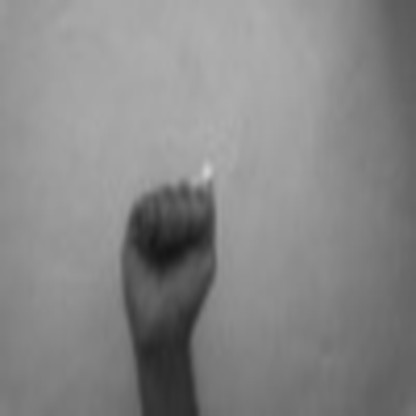a: (114, 163, 222, 343)
